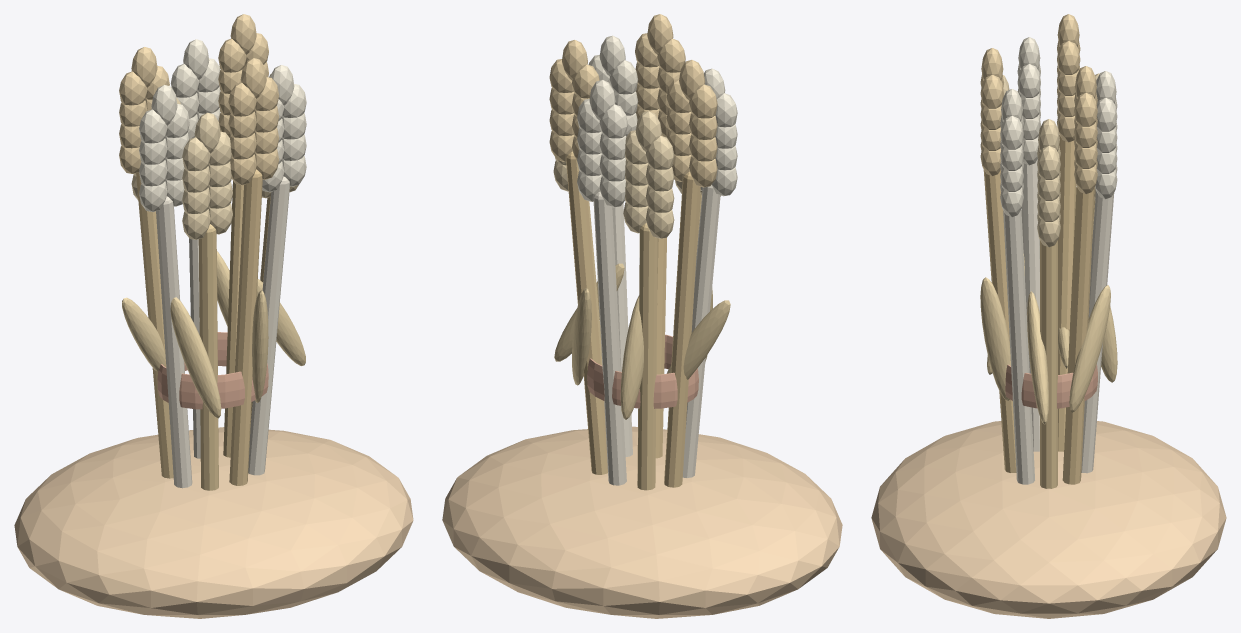
Rendered from wheat.glb.
The picture shows the model from 3 angles, left to right: view 1: azimuth 30°, elevation 25°; view 2: azimuth 150°, elevation 25°; view 3: azimuth 270°, elevation 25°; orthographic projection.
Parts seen in each view (by area): view 1: Mound, Stalk_2, Stalk_4, Stalk_1, Stalk_3, Stalk_5, Blade_2, Band, Stalk_8, Blade_3, Blade_1, Stalk_7 (+28 smaller); view 2: Mound, Stalk_5, Stalk_7, Stalk_6, Stalk_8, Stalk_4, Band, Blade_4, Stalk_1, Blade_3, Stalk_2, Blade_5 (+28 smaller); view 3: Mound, Stalk_1, Stalk_8, Stalk_0, Stalk_5, Stalk_2, Stalk_7, Stalk_4, Blade_5, Blade_1, Blade_0, Band (+21 smaller).
Part boxes in pixels (x1=…): Mound: x1=14, y1=427, x2=413, y2=618; Stalk_2: x1=229, y1=169, x2=262, y2=485; Stalk_4: x1=156, y1=196, x2=192, y2=488; Stalk_1: x1=248, y1=176, x2=289, y2=475; Stalk_3: x1=198, y1=224, x2=218, y2=490; Stalk_5: x1=136, y1=172, x2=173, y2=478; Blade_2: x1=170, y1=297, x2=221, y2=418; Band: x1=157, y1=332, x2=268, y2=409; Stalk_8: x1=223, y1=181, x2=243, y2=457; Blade_3: x1=122, y1=297, x2=165, y2=371; Blade_1: x1=252, y1=290, x2=268, y2=402; Stalk_7: x1=189, y1=238, x2=200, y2=458; Mound: x1=442, y1=426, x2=842, y2=618; Stalk_5: x1=664, y1=171, x2=700, y2=487; Stalk_7: x1=593, y1=191, x2=626, y2=485; Stalk_6: x1=637, y1=223, x2=657, y2=490; Stalk_8: x1=566, y1=151, x2=607, y2=474; Stalk_4: x1=682, y1=185, x2=720, y2=477; Band: x1=587, y1=334, x2=698, y2=408; Blade_4: x1=620, y1=295, x2=643, y2=419; Stalk_1: x1=612, y1=203, x2=632, y2=456; Blade_3: x1=667, y1=300, x2=730, y2=379; Stalk_2: x1=655, y1=134, x2=666, y2=458; Blade_5: x1=572, y1=288, x2=591, y2=385; Mound: x1=871, y1=421, x2=1226, y2=618; Stalk_1: x1=1003, y1=209, x2=1034, y2=484; Stalk_8: x1=1062, y1=186, x2=1094, y2=484; Stalk_0: x1=1040, y1=240, x2=1057, y2=488; Stalk_5: x1=1058, y1=135, x2=1076, y2=451; Stalk_2: x1=983, y1=169, x2=1016, y2=472; Stalk_7: x1=1081, y1=191, x2=1114, y2=473; Stalk_4: x1=1021, y1=159, x2=1039, y2=451; Blade_5: x1=1069, y1=285, x2=1110, y2=412; Blade_1: x1=980, y1=277, x2=1010, y2=400; Blade_0: x1=1027, y1=291, x2=1048, y2=424; Band: x1=1005, y1=364, x2=1097, y2=408.
Size of the model in its own units: 0.96 by 1.38 by 0.84.
